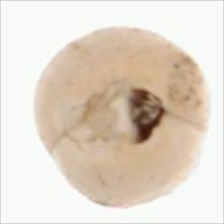L3: (76, 83, 169, 144)
L4: (33, 26, 210, 209)
